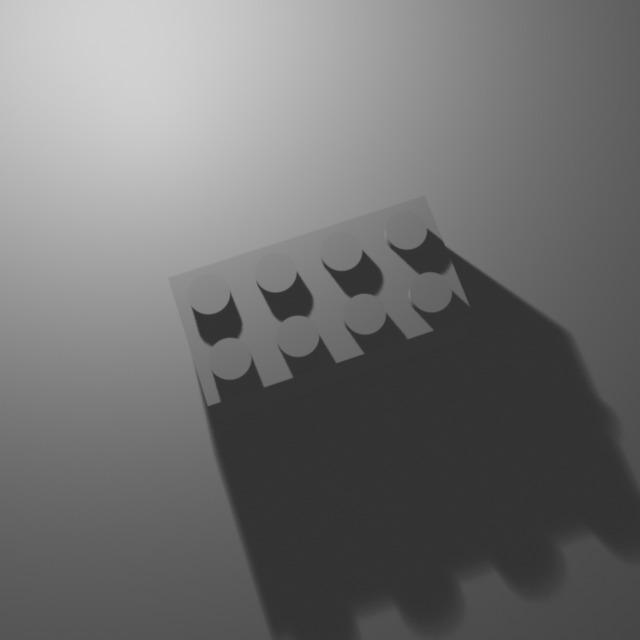lego_2x4: (166, 190, 476, 420)
